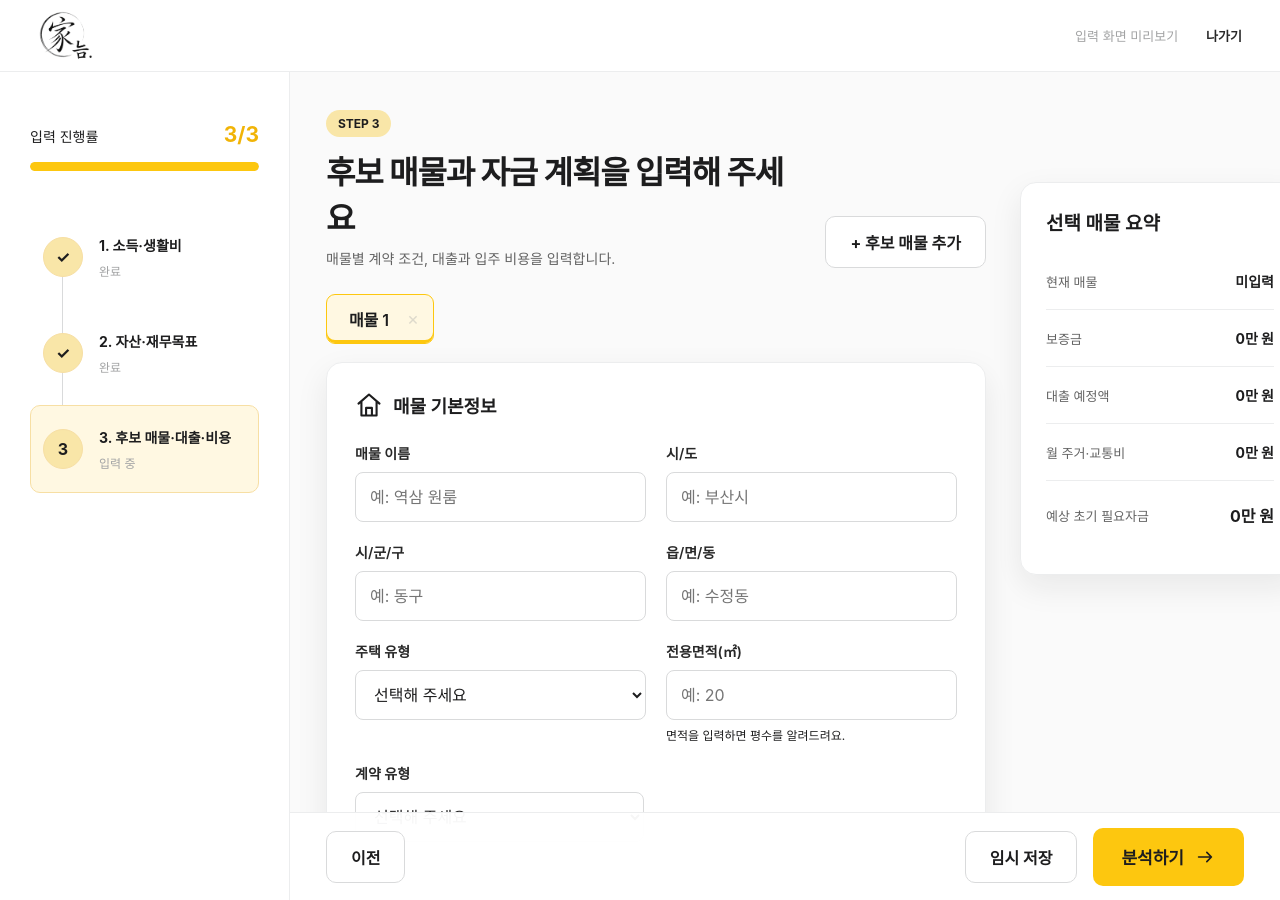
Scenario: HousingPlansPage › 독립 화면에서 후보 매물을 추가하고 삭제한다
Click the button "+ 후보 매물 추가". click: (906, 242)
box: [826,216,986,268]
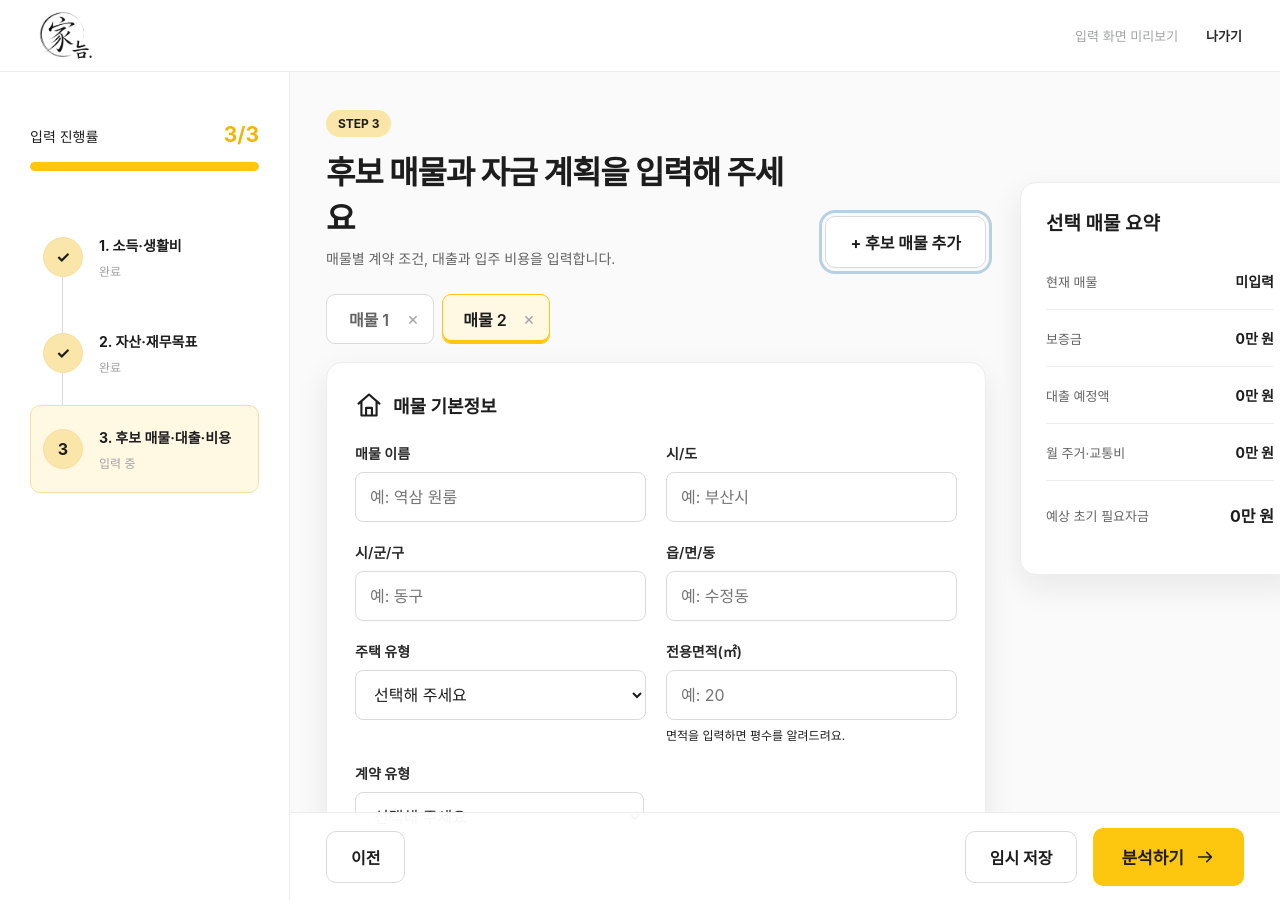
Result: the tab "매물 2" is shown at [442,294,550,344]
Click the button named "매물 2 삭제". click: (529, 319)
box: [518,308,540,330]
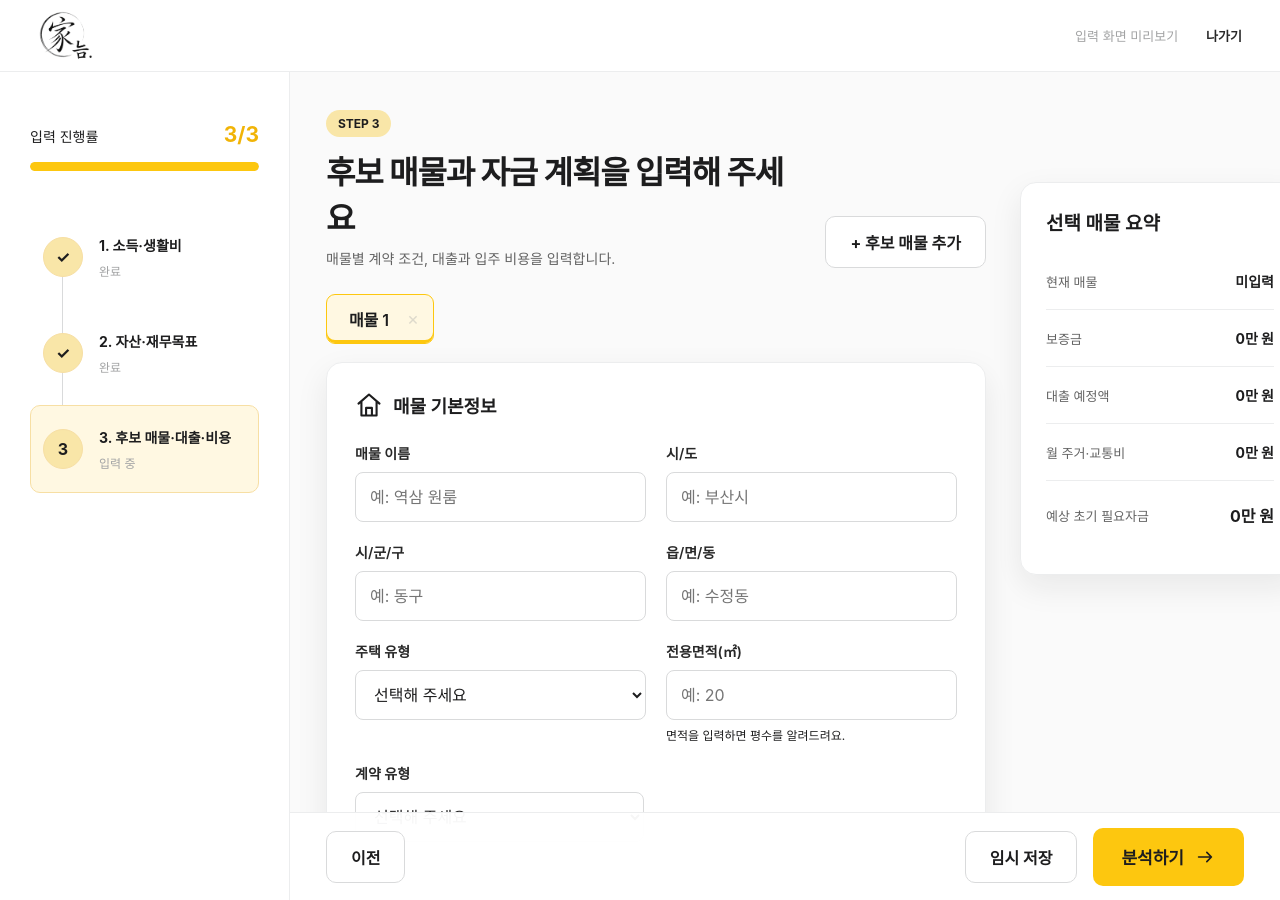
Result: the tab "매물 2" is gone
